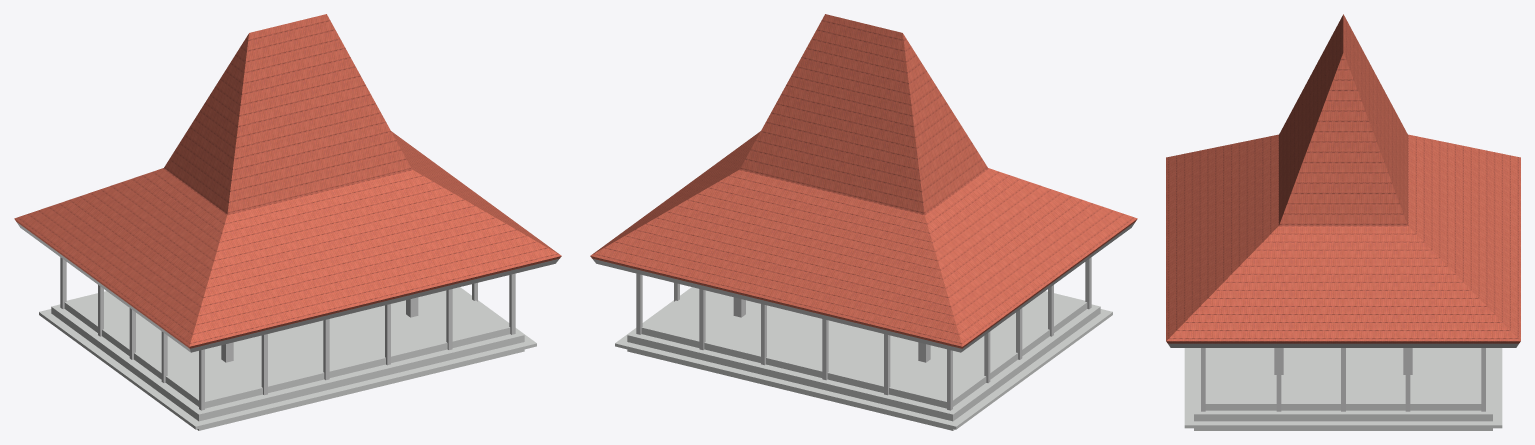
Rendered from rumah joglo.glb.
3 renders of one model, left to right at view 1: azimuth 30°, elevation 25°; view 2: azimuth 150°, elevation 25°; view 3: azimuth 270°, elevation 25°, orthographic.
Parts seen in each view (by area): view 1: Mesh408_Roof_Tiles___French_Red_0, Mesh1_Concrete___04_0, Mesh22_Concrete___04_0, Mesh23_Concrete___04_0, Mesh408_Paint___Light_Gray_0; view 2: Mesh408_Roof_Tiles___French_Red_0, Mesh1_Concrete___04_0, Mesh22_Concrete___04_0, Mesh23_Concrete___04_0, Mesh408_Paint___Light_Gray_0; view 3: Mesh408_Roof_Tiles___French_Red_0, Mesh1_Concrete___04_0, Mesh22_Concrete___04_0, Mesh23_Concrete___04_0, Mesh408_Paint___Light_Gray_0, Mesh11_Paint___Light_Gray_0, Mesh13_Paint___Light_Gray_0.
Boxes of the visible parts, x1,y1,x2,y2 form: Mesh408_Roof_Tiles___French_Red_0: [14, 14, 561, 348]; Mesh1_Concrete___04_0: [64, 287, 510, 408]; Mesh22_Concrete___04_0: [51, 287, 524, 430]; Mesh23_Concrete___04_0: [39, 287, 536, 429]; Mesh408_Paint___Light_Gray_0: [16, 222, 559, 352]; Mesh408_Roof_Tiles___French_Red_0: [590, 14, 1137, 348]; Mesh1_Concrete___04_0: [641, 287, 1087, 408]; Mesh22_Concrete___04_0: [627, 287, 1100, 430]; Mesh23_Concrete___04_0: [615, 287, 1112, 429]; Mesh408_Paint___Light_Gray_0: [592, 222, 1135, 352]; Mesh408_Roof_Tiles___French_Red_0: [1166, 14, 1520, 343]; Mesh1_Concrete___04_0: [1205, 348, 1481, 410]; Mesh22_Concrete___04_0: [1194, 348, 1492, 430]; Mesh23_Concrete___04_0: [1184, 348, 1502, 428]; Mesh408_Paint___Light_Gray_0: [1168, 343, 1518, 347]; Mesh11_Paint___Light_Gray_0: [1405, 348, 1410, 411]; Mesh13_Paint___Light_Gray_0: [1276, 348, 1281, 411].
Size of the model in its own units: 4.69 by 3.77 by 3.82.
3 materials, 1 textured.
